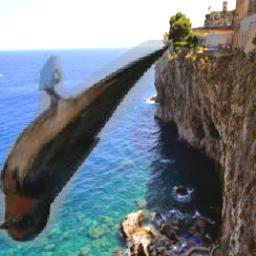Swallow: (0, 40, 174, 247)
